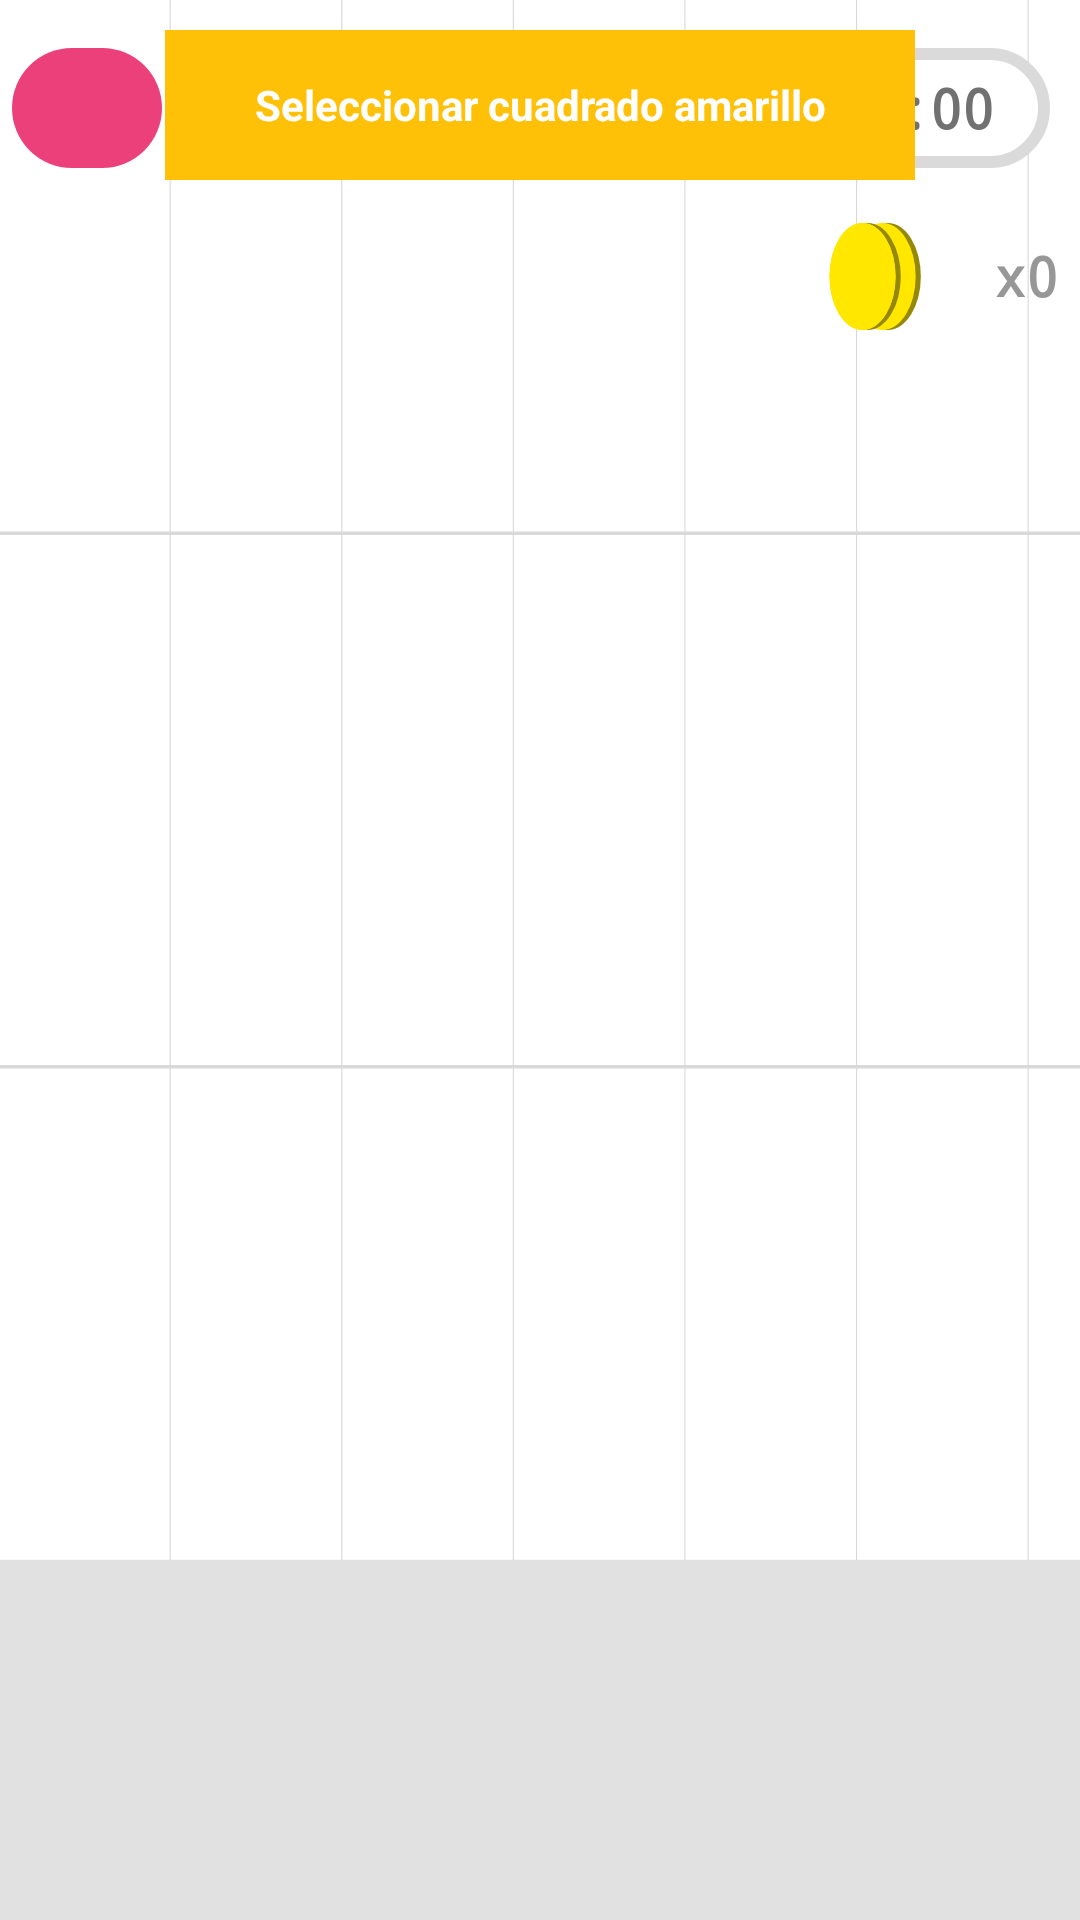

Icons on this 1080px x 1920px Android screen, each with its box as (x1, y1, x2, y2):
monedas: (829, 216, 921, 336)
